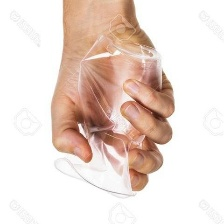glass: (42, 27, 166, 204)
